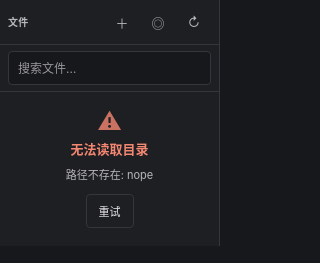
Test case: FilePanel 文件树 › 加载失败显示错误与重试，重试成功后错误消失
expect the message shows "路径不存在: nope": met, box [66,168,153,182]
Click the button "重试": (110, 211) [86,194,134,228]
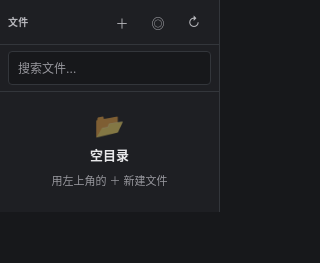
expect the message "⚠ 无法读取目录 路径不存在: nope 重试" is gone: met
expect the text "空目录" is shown: met, box [90,146,129,166]
